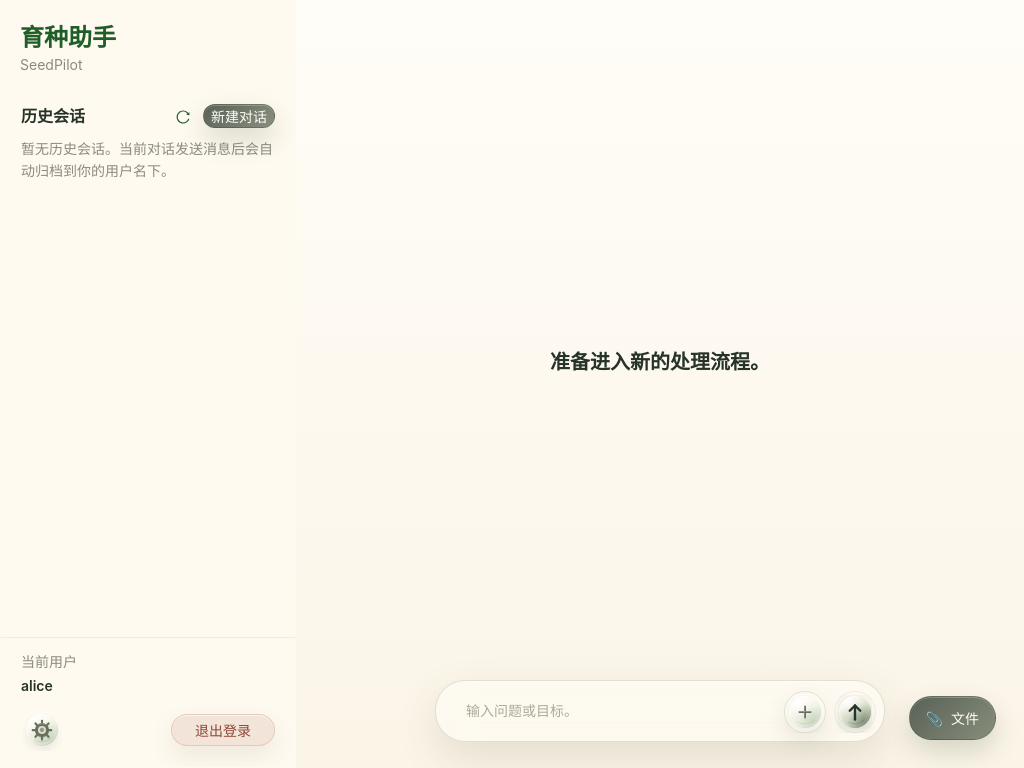
it: App › waits for reducer consumption before applying terminal side effects to an out-of-order MCP chain
Expected: the heading "育种助手" is shown, x1=20 y1=23 x2=116 y2=52
Step 1. Type "乱序终态" into the text box named "请输入问题" → (612, 711), box x1=448 y1=689 x2=776 y2=733
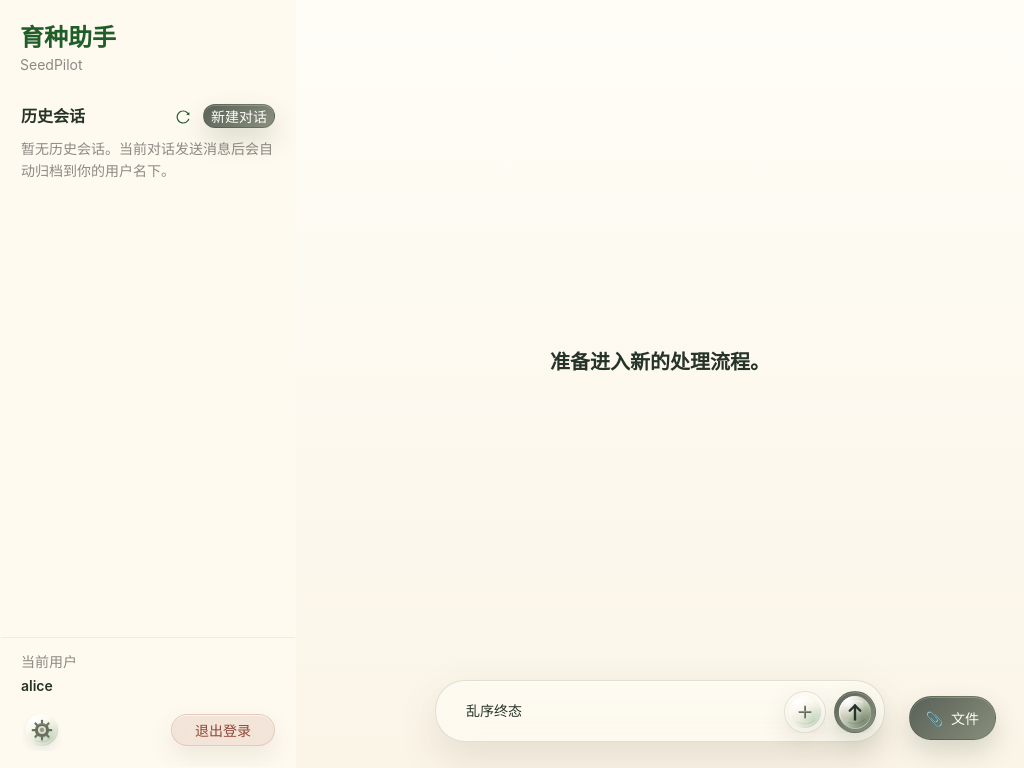
Step 2. Click the button named "发送" → (855, 712), box x1=834 y1=691 x2=876 y2=733
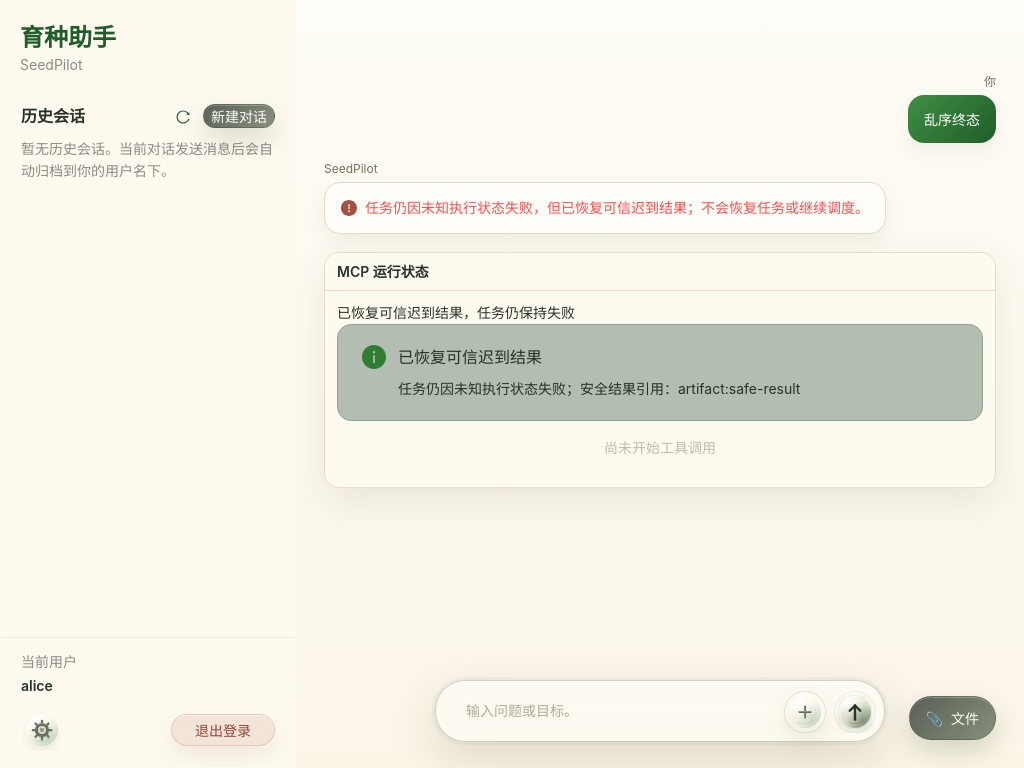
Result: the text "已恢复可信迟到结果" is shown at x1=398 y1=347 x2=542 y2=367
Result: the picture named "任务失败" is shown at x1=341 y1=200 x2=357 y2=216
